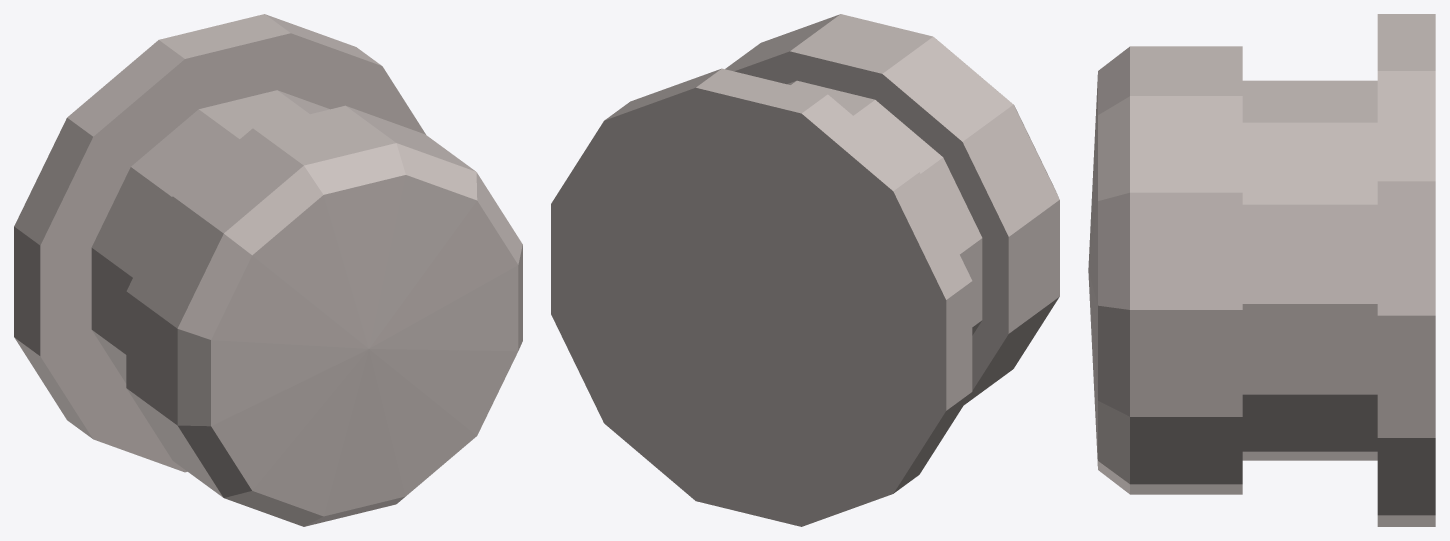
File: SM_Fixture_VentCap100_01.gltf
3 views of the same model, side by side, from view 1: azimuth 30°, elevation 25°; view 2: azimuth 150°, elevation 25°; view 3: azimuth 270°, elevation 25° (orthographic). The views are drawn at different scales.
Visible parts, largest first — view 1: SM_Fixture_VentCap100_01; view 2: SM_Fixture_VentCap100_01; view 3: SM_Fixture_VentCap100_01.
Part boxes in pixels (x1,y1,x2,y2): SM_Fixture_VentCap100_01: (14, 14, 522, 526); SM_Fixture_VentCap100_01: (551, 14, 1059, 526); SM_Fixture_VentCap100_01: (1088, 14, 1435, 526).
Size of the model in its own units: 0.1565 by 0.1565 by 0.108.
1 material, 1 textured.
